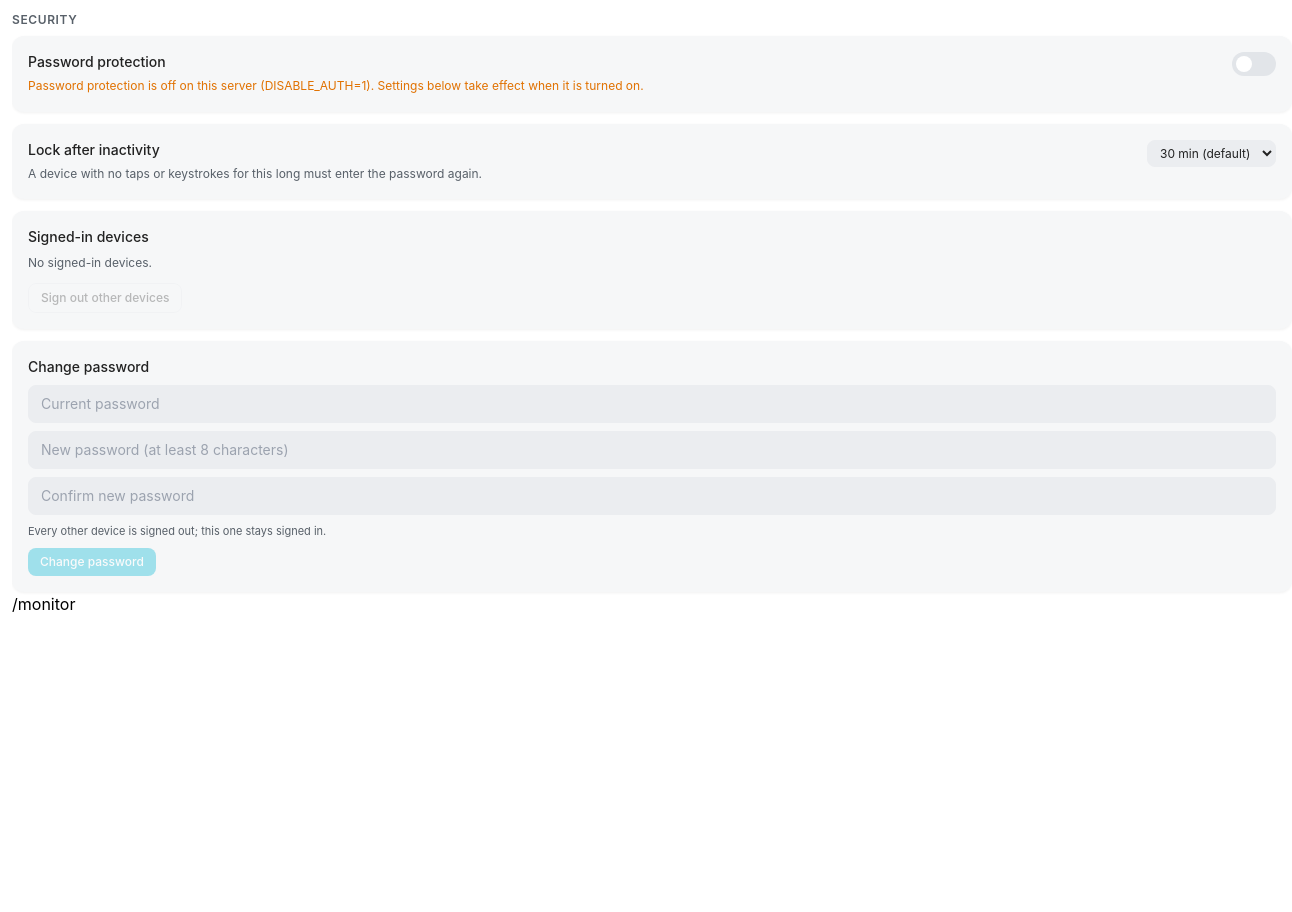
Test case: this device › turning protection on: signed in at once, auth mode flips without /login, socket returns with a ticket
Expected: the text "Password protection is off on this server (DISABLE_AUTH=1)" is shown, [28,78,644,93]
Click the switch named "Password protection" at [1254, 64], box [1232,52,1276,76]
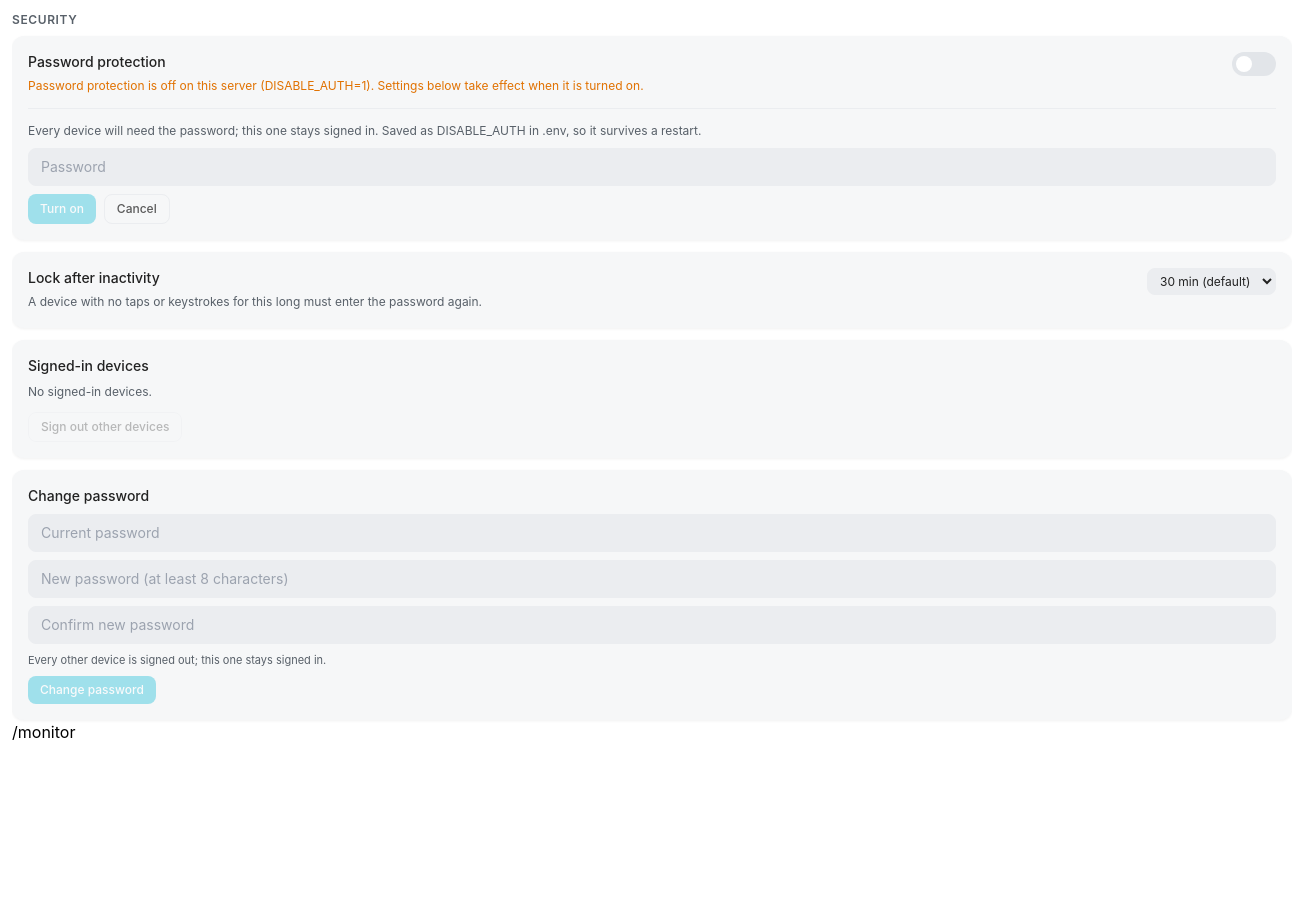
Type "pw-123456" into the password field labelled "Password" at [652, 167], box [28,148,1276,186]
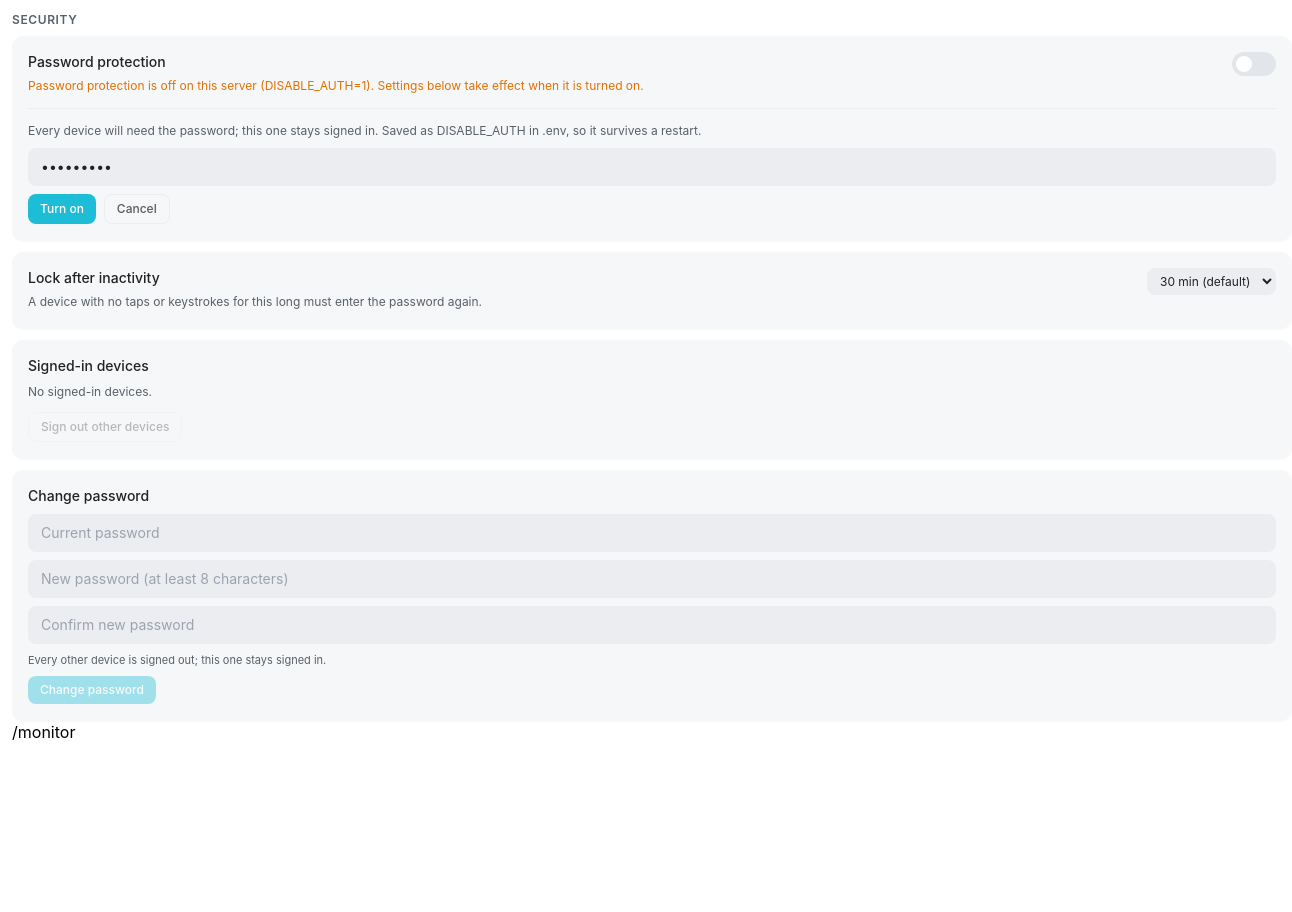
Click the button "Turn on" at [62, 209], box [28,194,96,224]
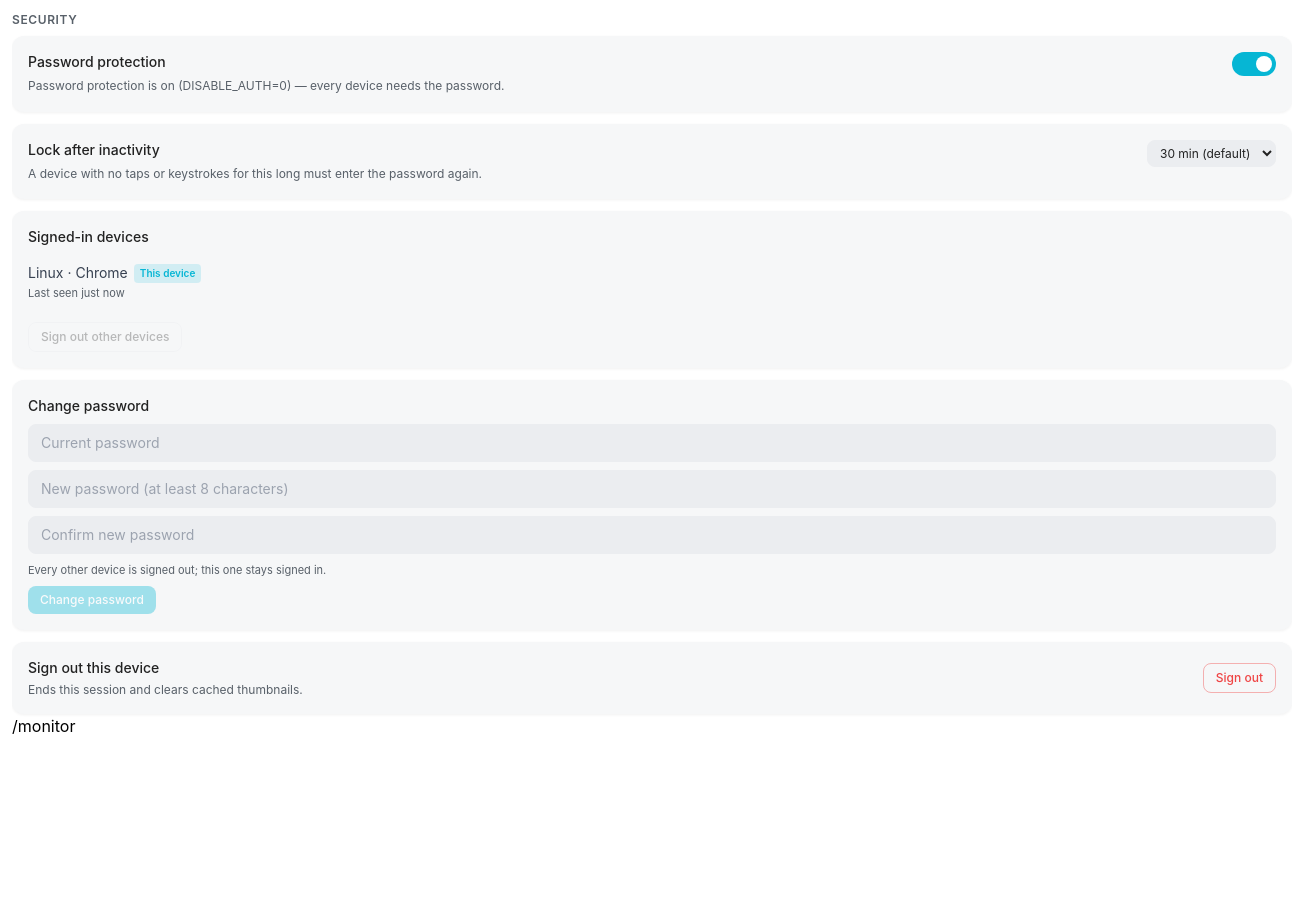
Expected: the text with test id "location" reads "/monitor", [12,716,75,736]
Now the button "Sign out" is shown, box [1203,663,1276,693]
Now the text "This device" is shown, box [134,264,201,282]
